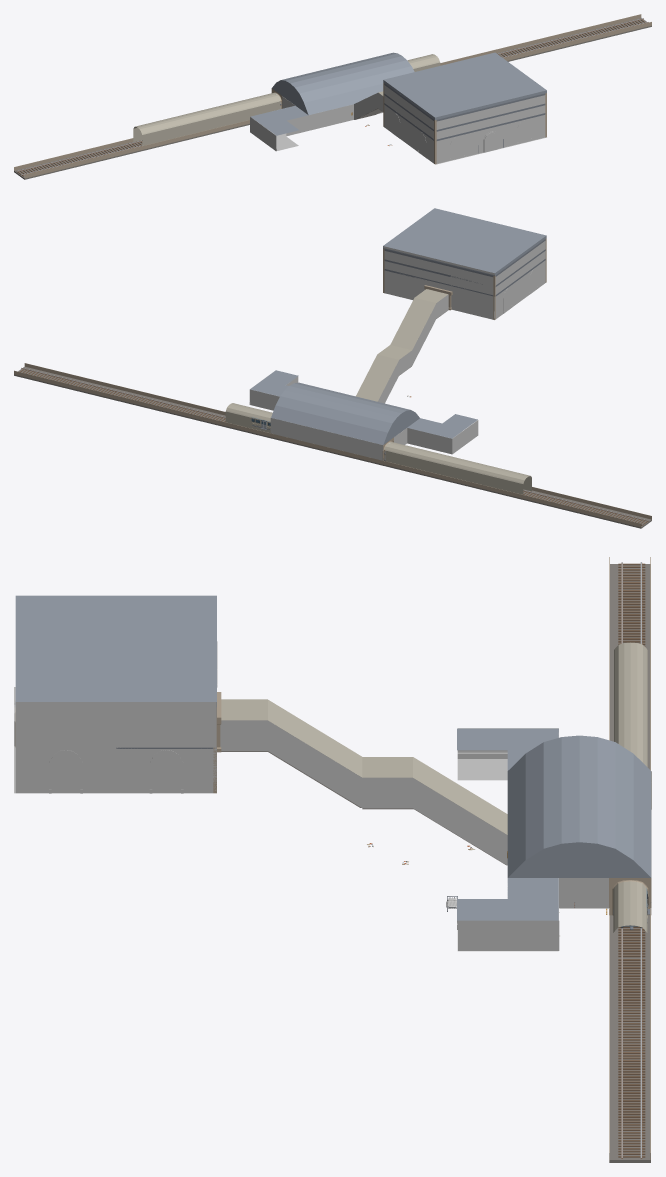
The model's file is PlayerBase_Geometry.fbx.
The picture shows the model from 3 angles, top to bottom: view 1: azimuth 30°, elevation 25°; view 2: azimuth 150°, elevation 25°; view 3: azimuth 270°, elevation 25°; orthographic projection. The views are drawn at different scales.
Visible parts, largest first — view 1: PB_part_0064, PB_part_0213, PB_part_0010, PB_part_0053, PB_part_0051, PB_part_0216, PB_part_0066, PB_part_0058, PB_part_0214, PB_part_0091, PB_part_0073, PB_part_0050 (+20 smaller); view 2: PB_part_0213, PB_part_0064, PB_part_0010, PB_part_0078, PB_part_0069, PB_part_0054, PB_part_0216, PB_part_0047, PB_part_0050, PB_part_0091, PB_part_0073, PB_part_0214 (+8 smaller); view 3: PB_part_0064, PB_part_0010, PB_part_0213, PB_part_0078, PB_part_0216, PB_part_0056, PB_part_0045, PB_part_0070, PB_part_0059, PB_part_0082, PB_part_0083, PB_part_0214 (+12 smaller).
Part boxes in pixels (bbox=[...]): PB_part_0064: bbox=[383, 52, 546, 120]; PB_part_0213: bbox=[14, 14, 651, 179]; PB_part_0010: bbox=[272, 52, 414, 115]; PB_part_0053: bbox=[502, 115, 545, 147]; PB_part_0051: bbox=[436, 131, 479, 163]; PB_part_0216: bbox=[497, 18, 648, 57]; PB_part_0066: bbox=[502, 95, 545, 123]; PB_part_0058: bbox=[436, 111, 479, 139]; PB_part_0214: bbox=[16, 140, 142, 176]; PB_part_0091: bbox=[133, 121, 165, 145]; PB_part_0073: bbox=[409, 123, 433, 163]; PB_part_0050: bbox=[384, 105, 408, 144]; PB_part_0213: bbox=[14, 363, 651, 528]; PB_part_0064: bbox=[383, 208, 546, 275]; PB_part_0010: bbox=[271, 382, 419, 444]; PB_part_0078: bbox=[356, 289, 447, 401]; PB_part_0069: bbox=[384, 270, 493, 319]; PB_part_0054: bbox=[450, 262, 494, 294]; PB_part_0216: bbox=[20, 367, 225, 421]; PB_part_0047: bbox=[383, 246, 427, 279]; PB_part_0050: bbox=[494, 279, 520, 320]; PB_part_0091: bbox=[500, 470, 531, 494]; PB_part_0073: bbox=[520, 260, 545, 300]; PB_part_0214: bbox=[523, 490, 648, 525]; PB_part_0064: bbox=[15, 595, 216, 706]; PB_part_0010: bbox=[507, 735, 651, 877]; PB_part_0213: bbox=[609, 557, 650, 1162]; PB_part_0078: bbox=[221, 699, 507, 834]; PB_part_0216: bbox=[618, 957, 645, 1158]; PB_part_0056: bbox=[15, 747, 116, 793]; PB_part_0045: bbox=[116, 702, 216, 747]; PB_part_0070: bbox=[16, 702, 116, 747]; PB_part_0059: bbox=[116, 747, 216, 793]; PB_part_0082: bbox=[268, 721, 362, 807]; PB_part_0083: bbox=[413, 778, 507, 865]; PB_part_0214: bbox=[618, 562, 645, 646].
Bounding box in the file's own units: 168 × 28.43 × 76.05.
